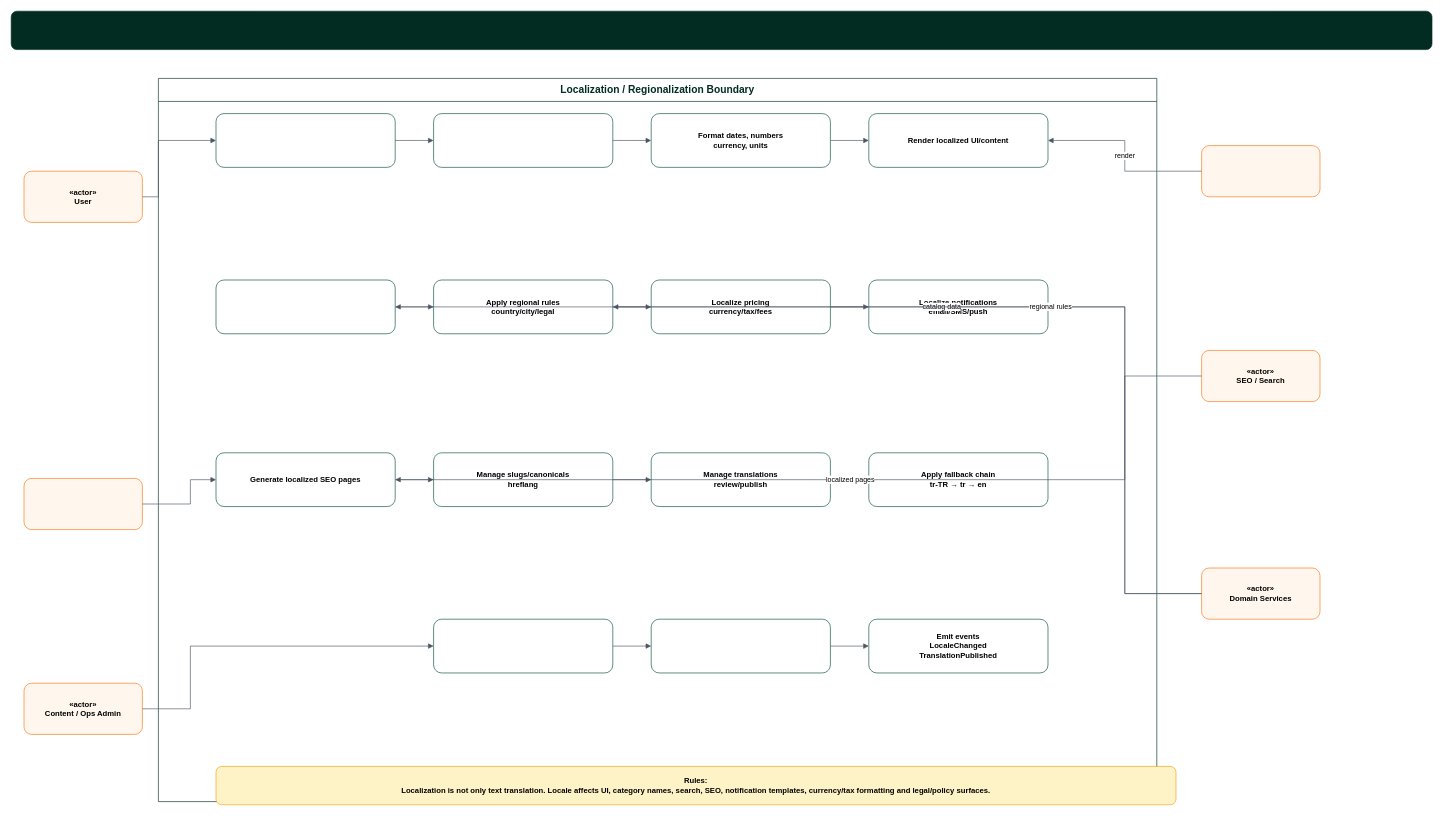
Some shapes in this 1443 by 816 pixel diagram are drawn without their labels. Each missing label, with the centre of its shape:
Admin localization config: pixel 523 646
Check translation quality: pixel 740 646
Detect locale app/device/profile: pixel 305 140
Localize categories service names/tags: pixel 305 306
Select language TR / EN first: pixel 523 140
Viaverse Localization / Multi-language / Regionalization — Use Case Diagram: pixel 721 30
«actor» Client Apps: pixel 1260 171
«actor» Guest / SEO Visitor: pixel 82 504
